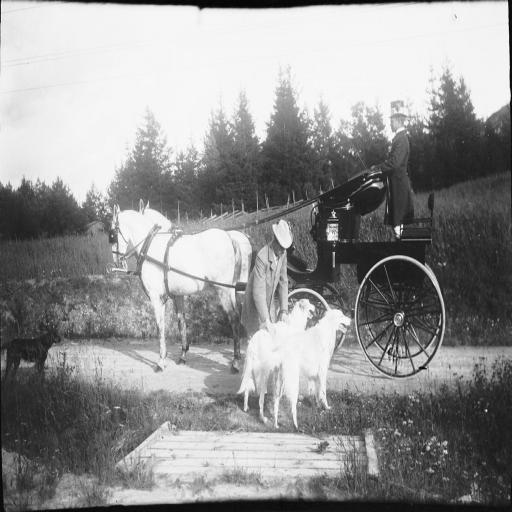Horse: (110, 204, 241, 374), (136, 196, 258, 354)
